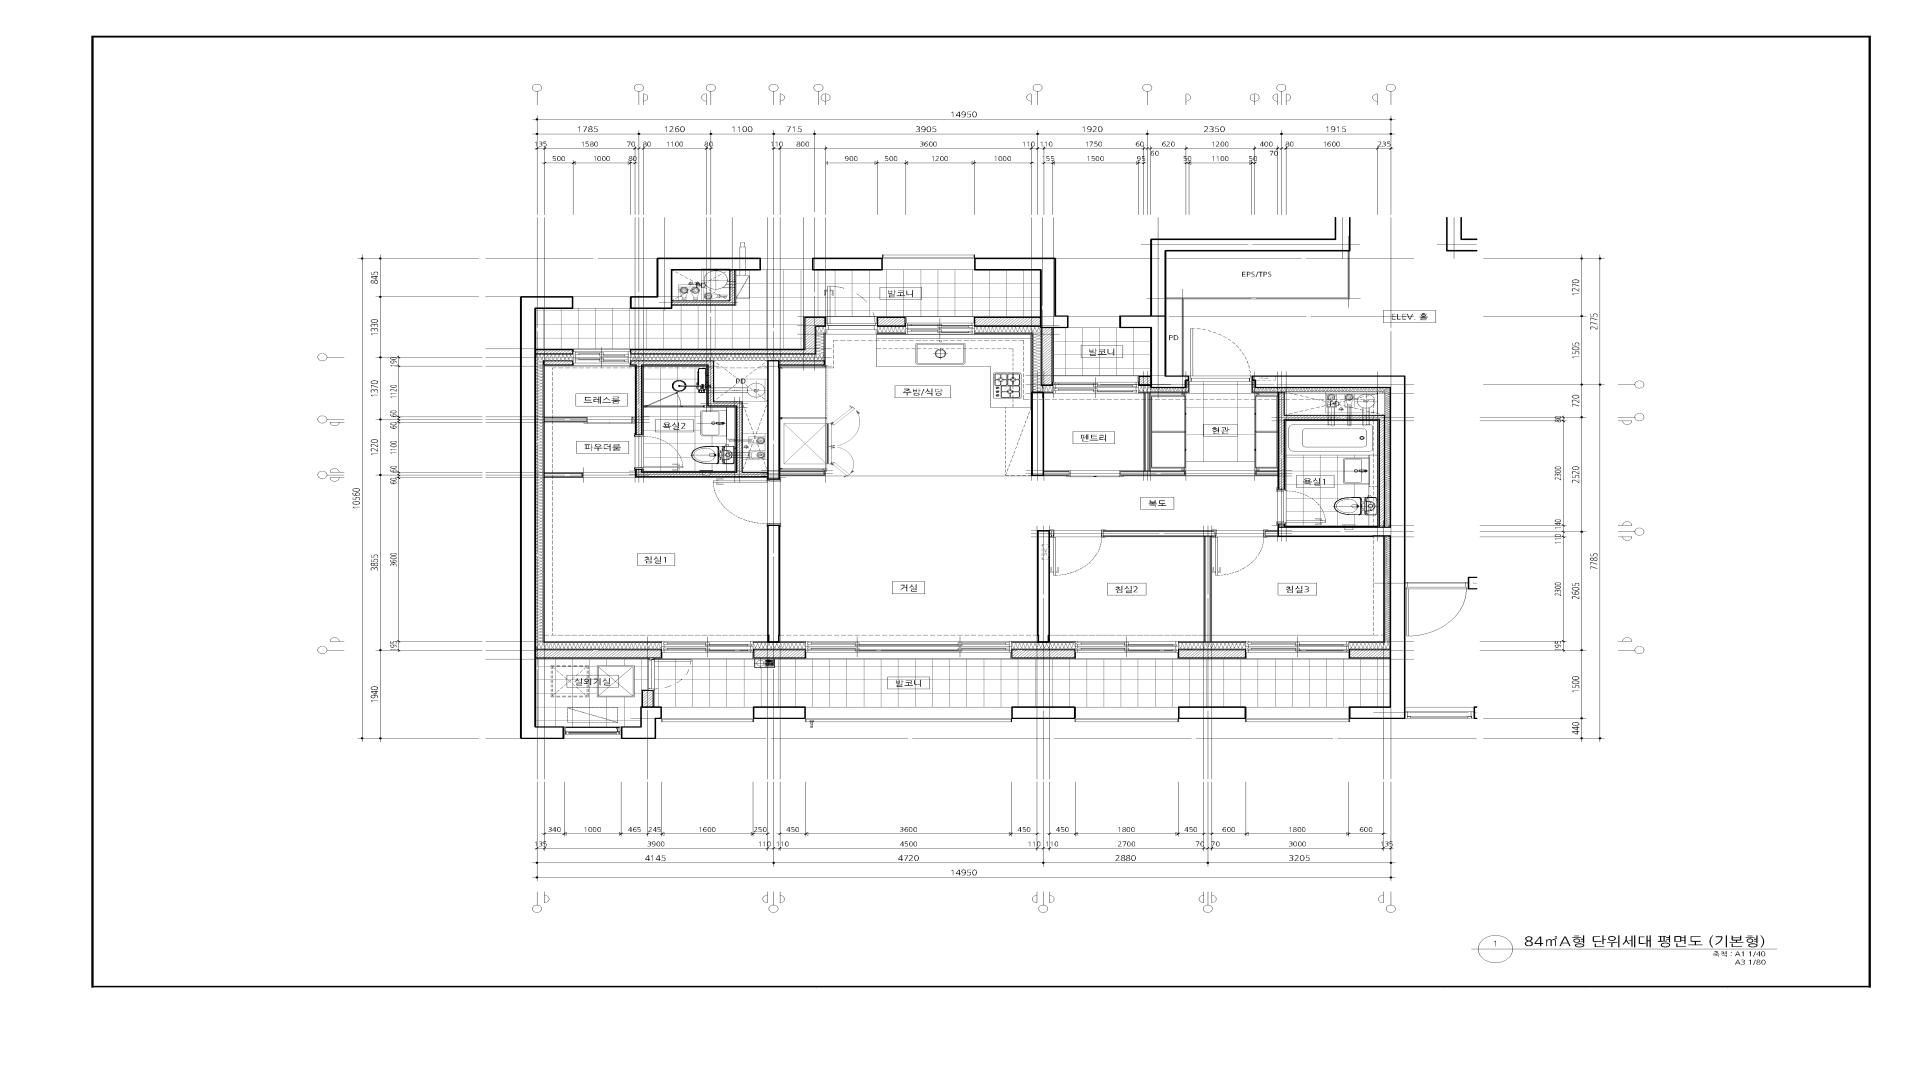door: (1188, 328, 1251, 381), (712, 480, 781, 525), (1050, 530, 1104, 576), (1215, 530, 1266, 576), (825, 286, 877, 327), (1278, 489, 1327, 524), (636, 435, 683, 469), (647, 659, 691, 691), (644, 392, 682, 407), (1069, 471, 1121, 477), (587, 417, 632, 423)
wall: (1251, 376, 1406, 719), (1120, 239, 1350, 388), (520, 297, 574, 738), (630, 360, 825, 480), (1166, 252, 1350, 376), (1255, 392, 1385, 526), (1104, 530, 1215, 642), (630, 316, 825, 355), (630, 257, 761, 309), (975, 257, 1068, 328), (1121, 393, 1187, 476), (1031, 392, 1069, 476), (673, 270, 736, 306), (767, 525, 781, 644), (1036, 530, 1050, 644), (621, 707, 662, 738), (537, 649, 662, 658), (812, 257, 882, 270), (1179, 707, 1245, 719), (1011, 707, 1075, 719), (975, 316, 1040, 327), (1040, 328, 1052, 386), (1178, 649, 1246, 658), (754, 707, 804, 719), (1011, 649, 1075, 658), (753, 649, 806, 658), (1349, 649, 1390, 658), (877, 316, 906, 327), (537, 348, 574, 355), (543, 417, 587, 422), (543, 472, 584, 477), (642, 691, 654, 707), (543, 360, 574, 365), (1138, 376, 1150, 386), (1266, 530, 1278, 537), (1278, 524, 1286, 527)
window: (806, 641, 1011, 658), (804, 707, 1011, 723), (1075, 641, 1179, 658), (1246, 641, 1349, 658), (1245, 707, 1350, 723), (1075, 707, 1179, 723), (662, 641, 753, 658), (661, 707, 754, 723), (1052, 376, 1138, 393), (882, 255, 975, 270), (906, 316, 975, 334), (572, 348, 630, 365), (1068, 315, 1120, 328), (761, 257, 812, 270), (564, 727, 621, 738), (574, 297, 630, 309)
